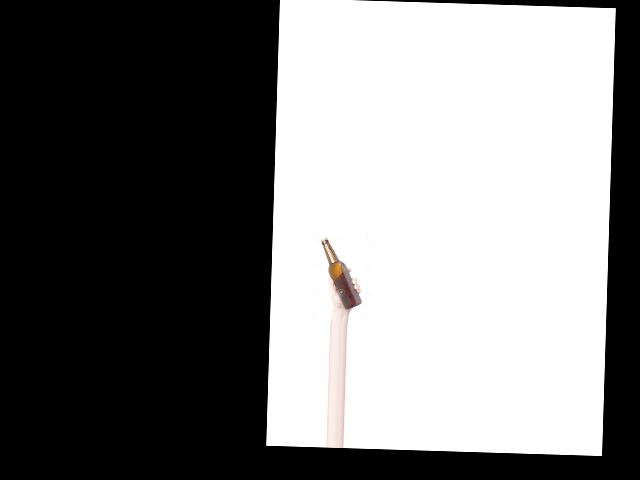beer: (318, 237, 363, 309)
